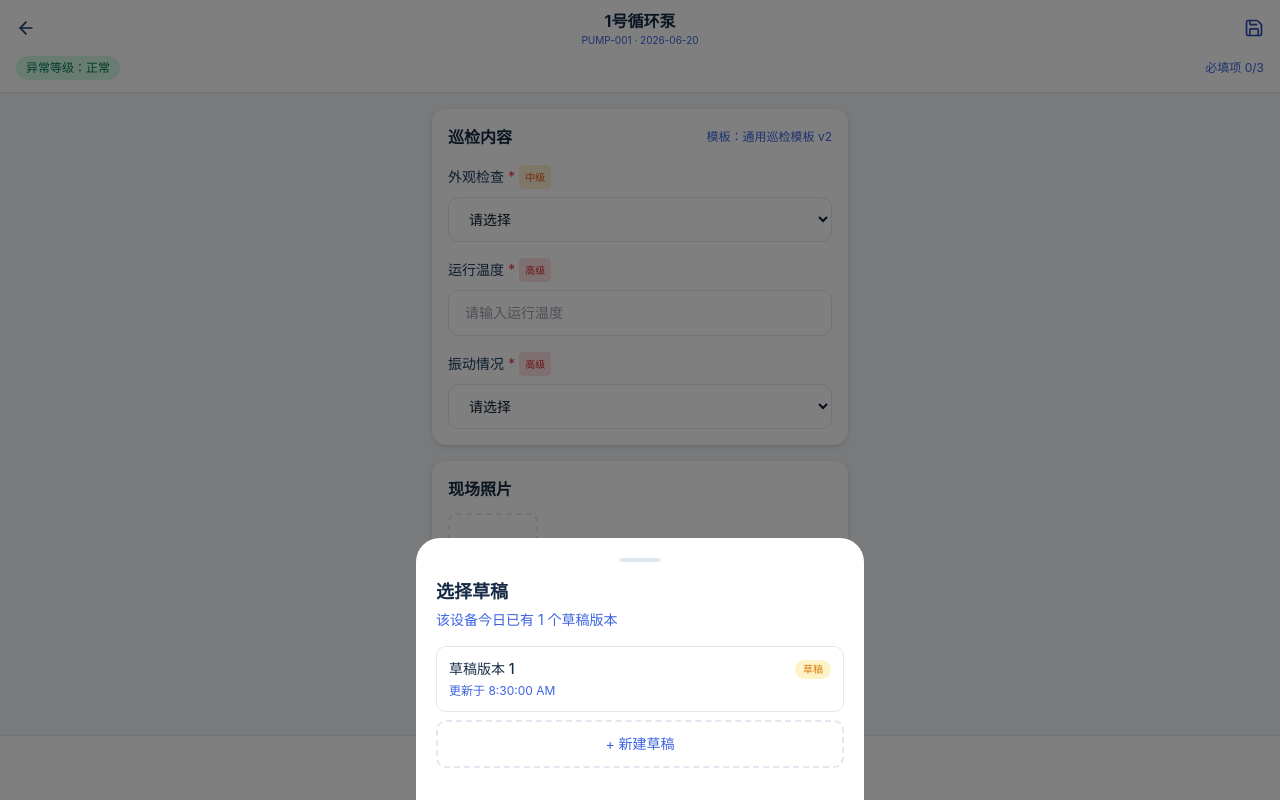
Test case: InspectionForm - 问题2: 旧模板版本拦截 › 选择使用新版本重新填写后应该清空表单
Expected: the heading "选择草稿" is shown, left=436, top=581, right=508, bottom=602
Click the text "草稿版本 1" at [482, 669], box left=449, top=659, right=514, bottom=679
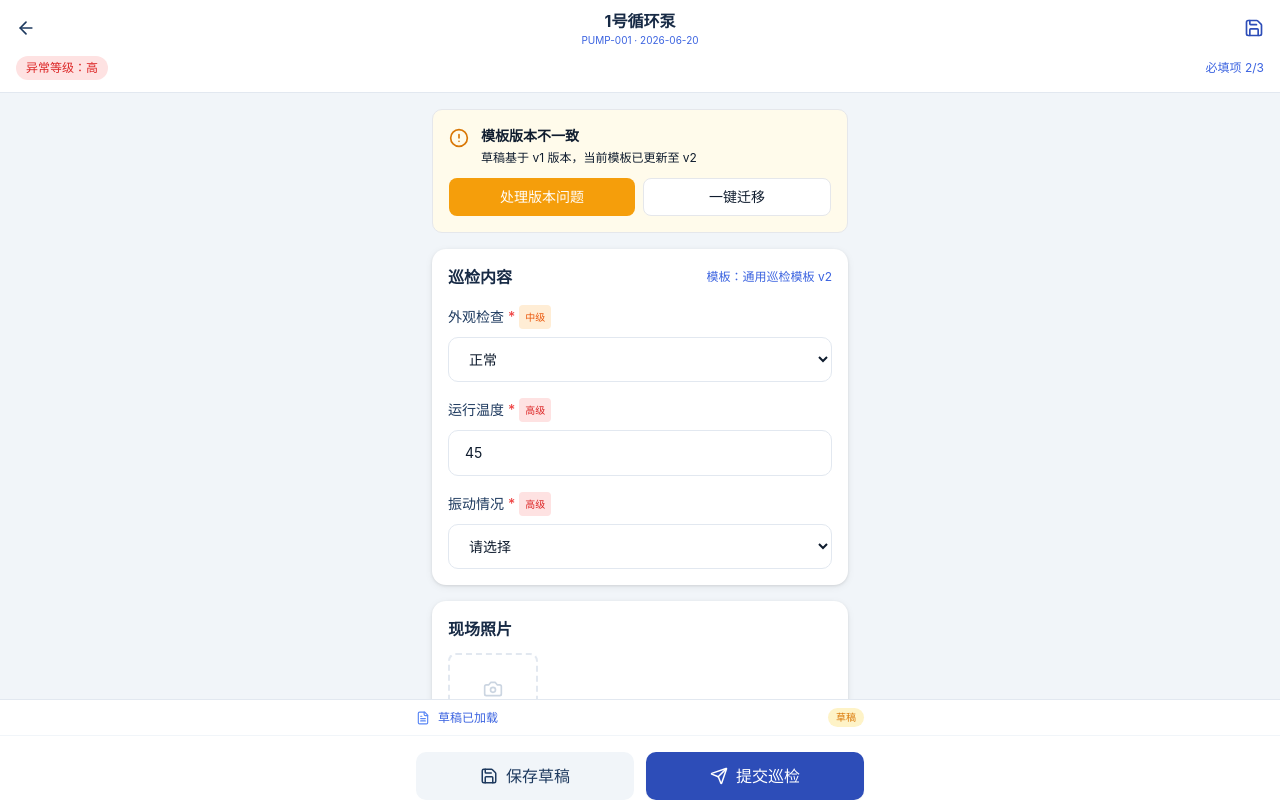
Result: the text "模板版本不一致" is shown at left=481, top=127, right=579, bottom=144
Click the button "提交巡检" at [755, 776], box left=646, top=752, right=864, bottom=799
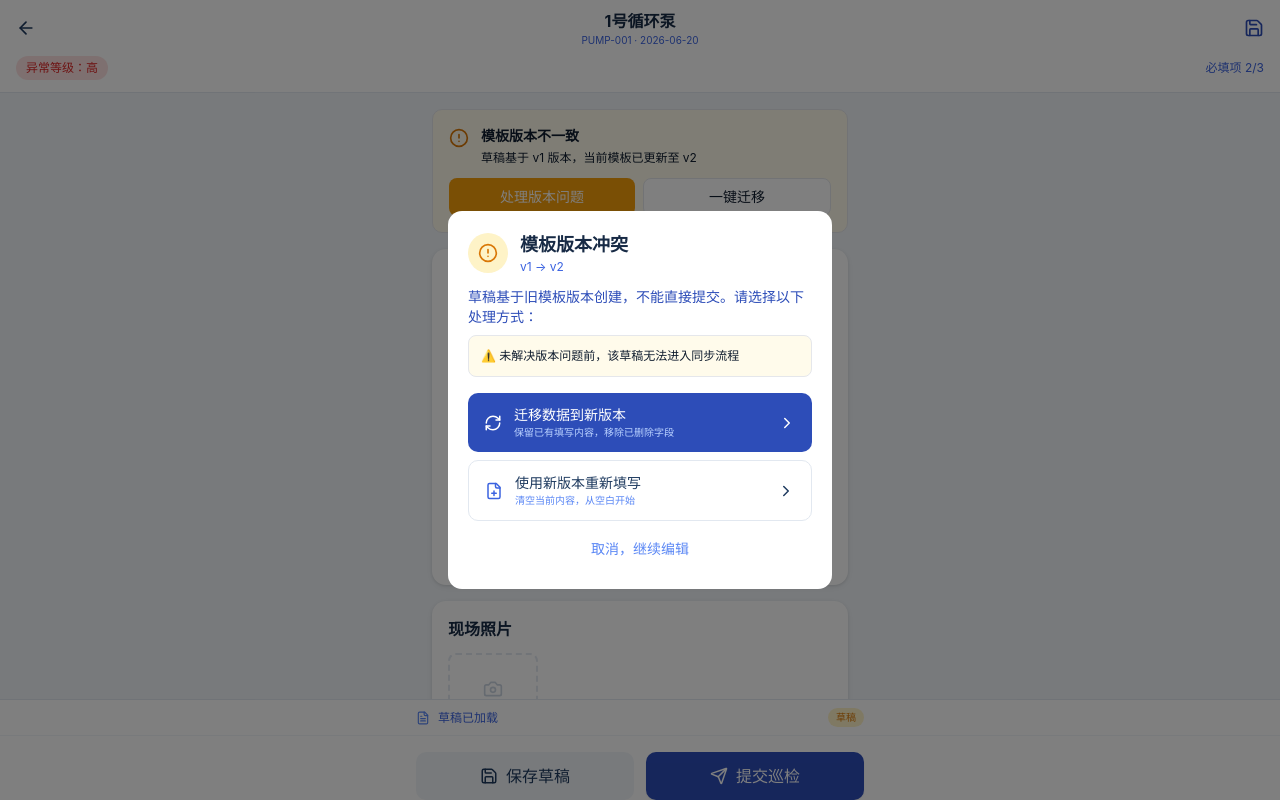
Result: the heading "模板版本冲突" is shown at left=520, top=231, right=628, bottom=259
Click the text "使用新版本重新填写" at [578, 483], box left=515, top=473, right=641, bottom=493
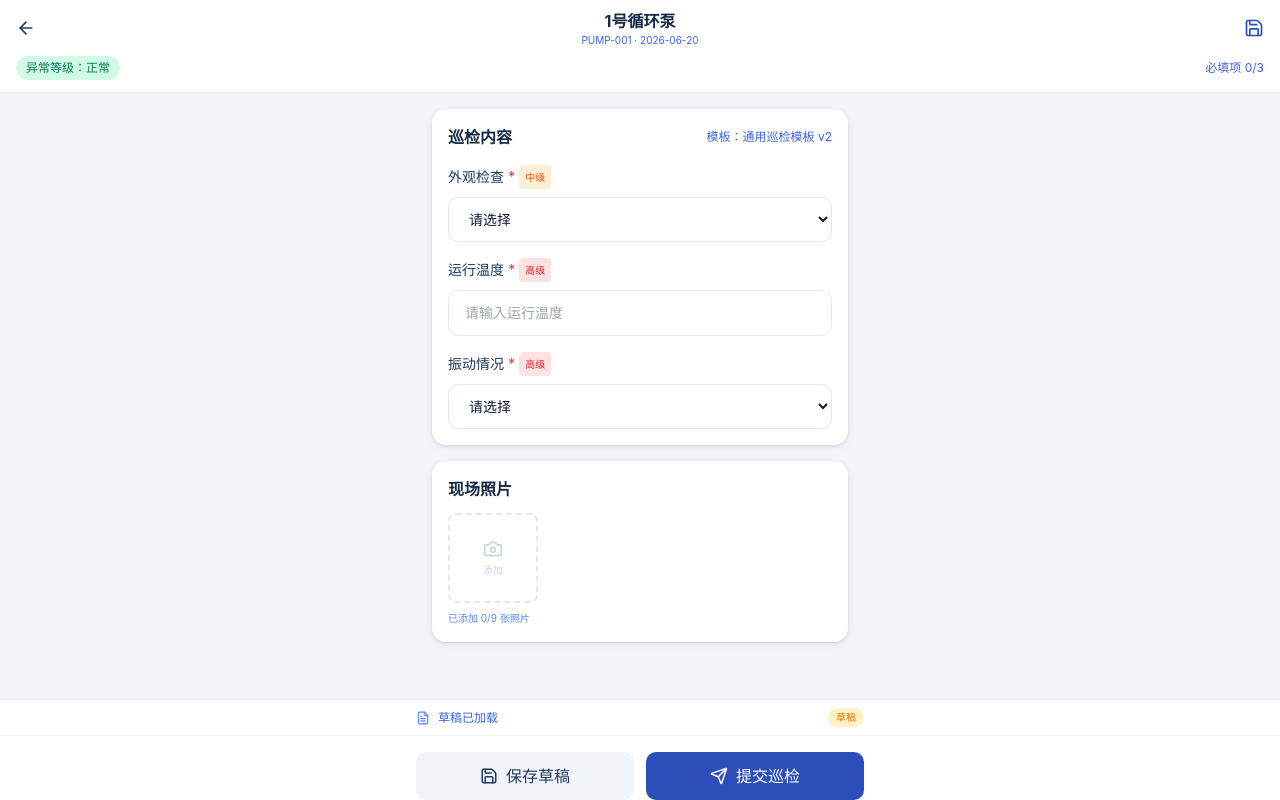
Result: the heading "模板版本冲突" is gone
Result: the dropdown labelled "外观检查" shows "请选择" at left=448, top=197, right=832, bottom=242
Result: the text "模板版本不一致" is gone
